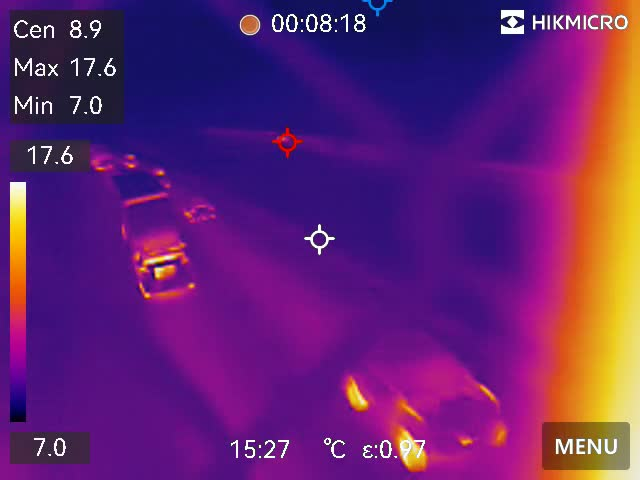heavyTruck: (110, 174, 204, 301)
vehicle: (342, 316, 512, 464), (180, 191, 220, 223)
